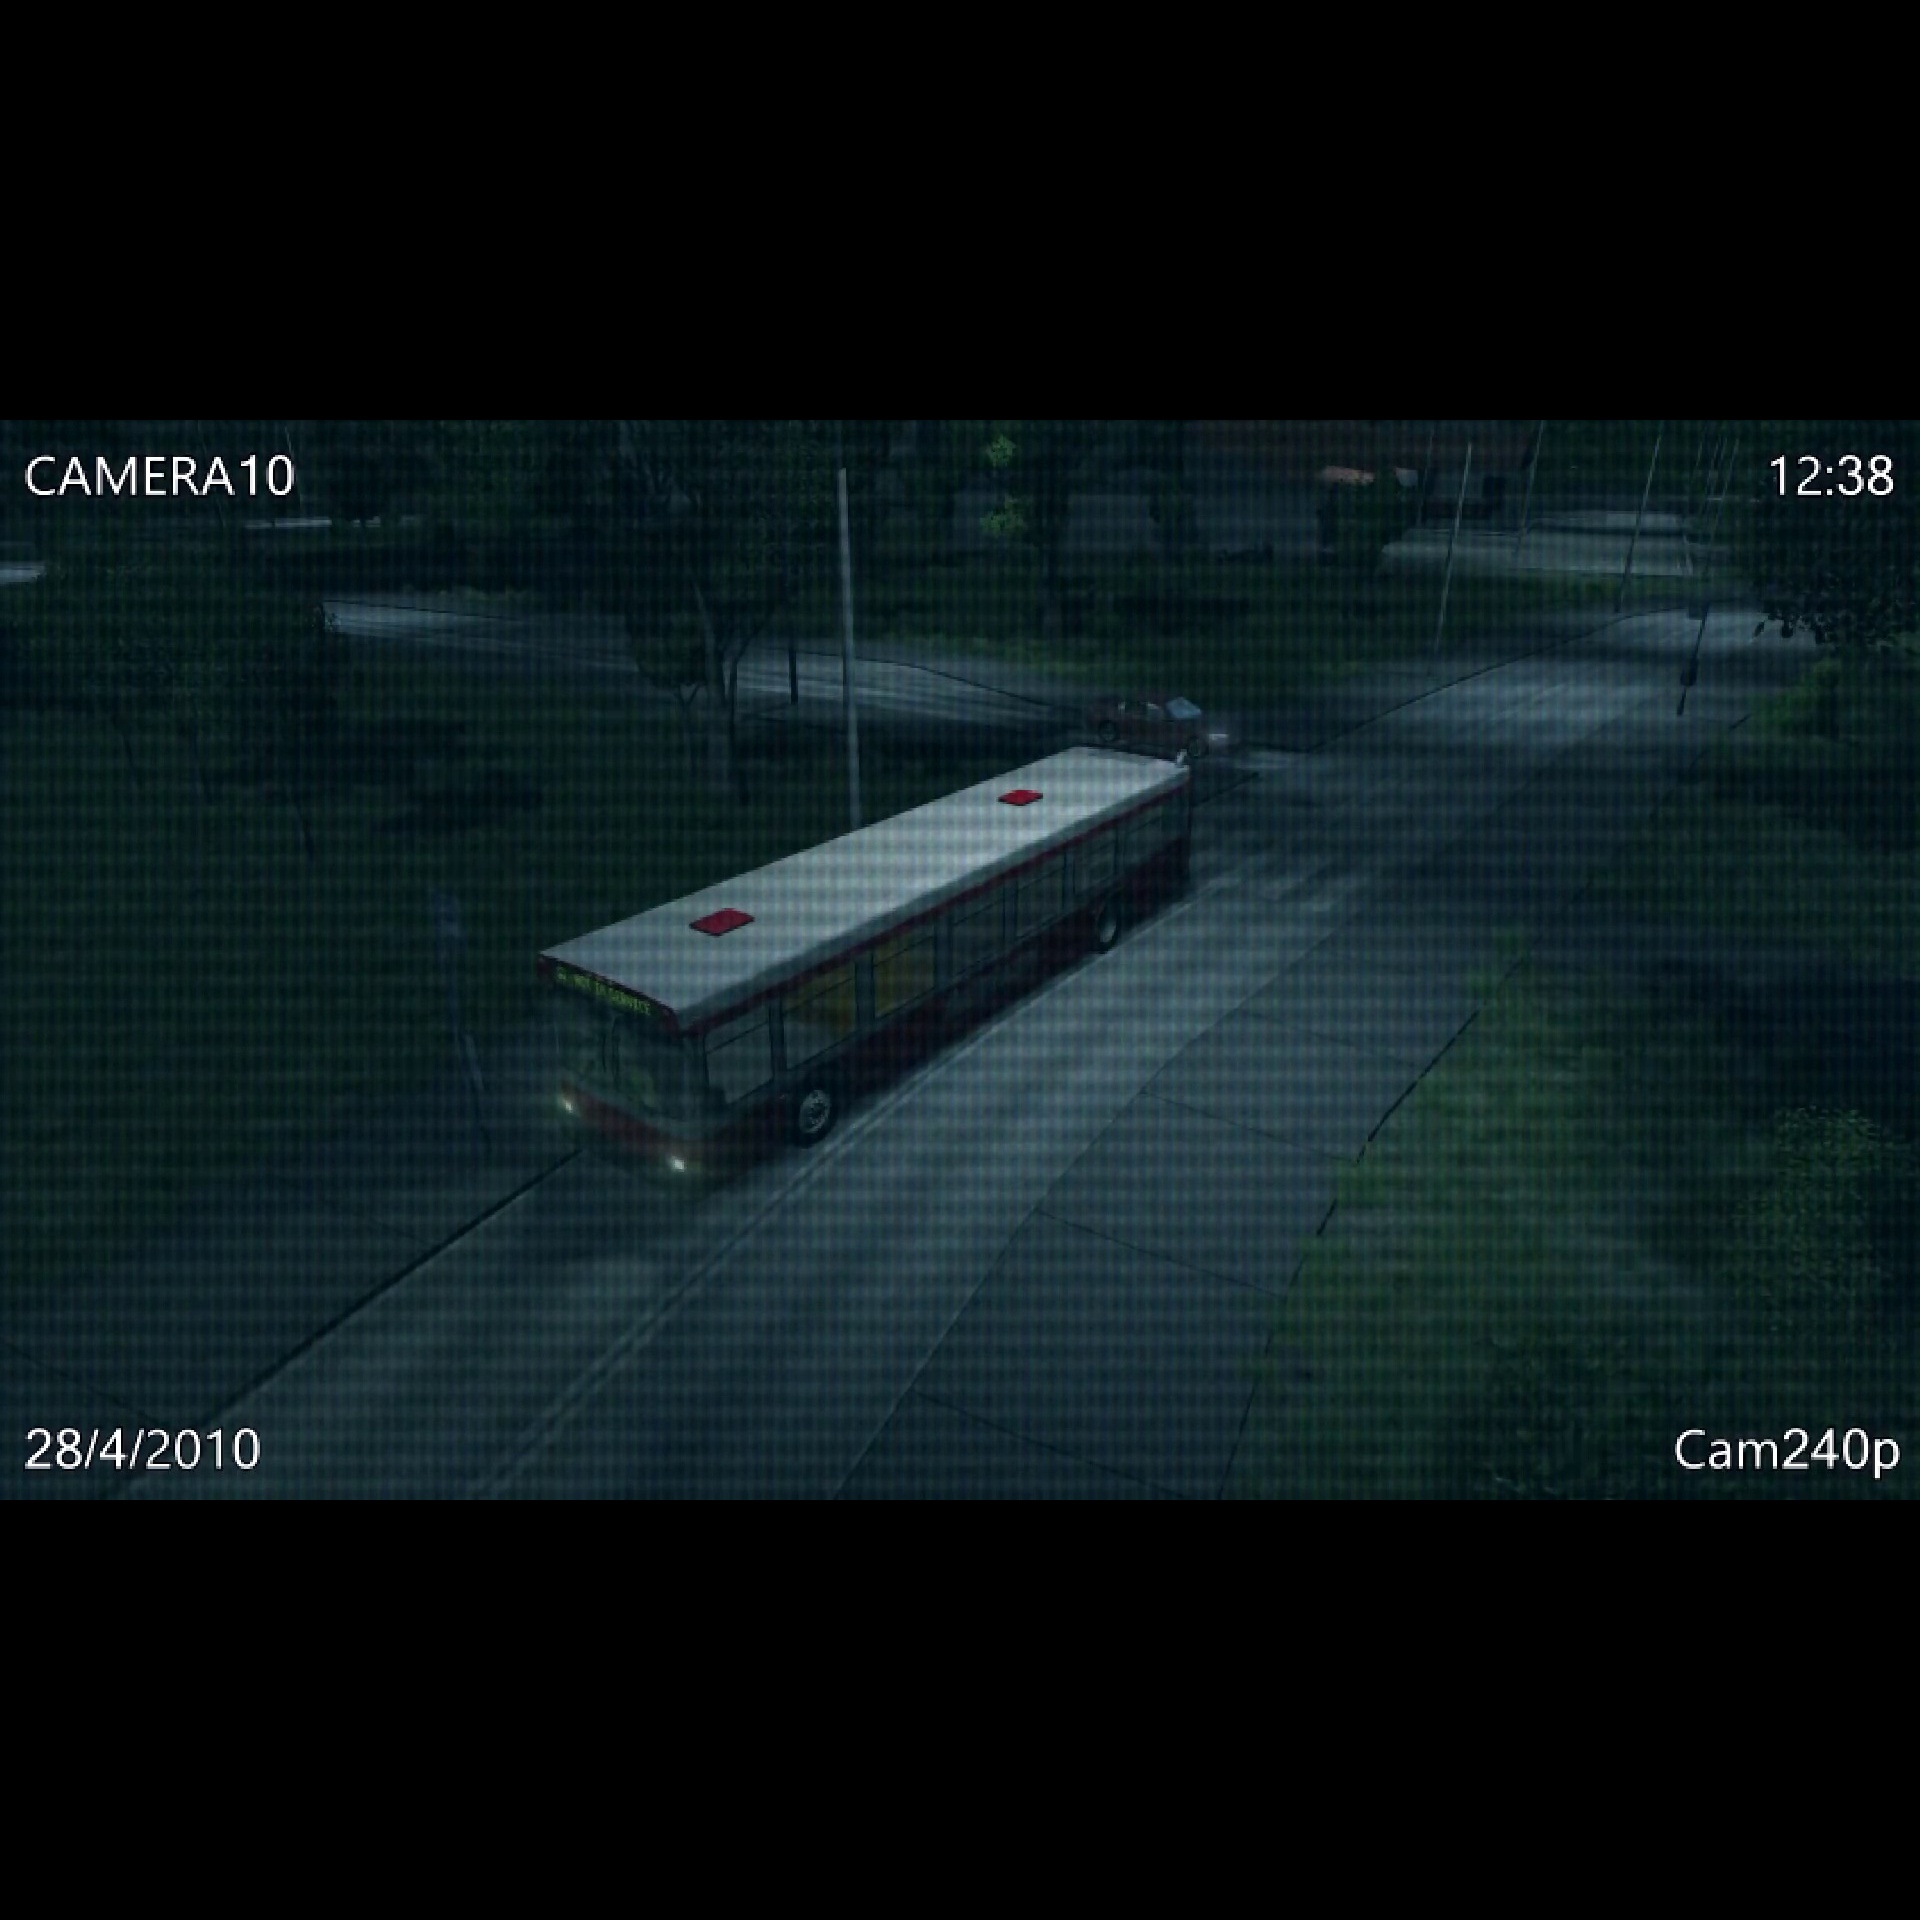vehicle: (527, 740, 1201, 1196), (1090, 687, 1247, 758)
